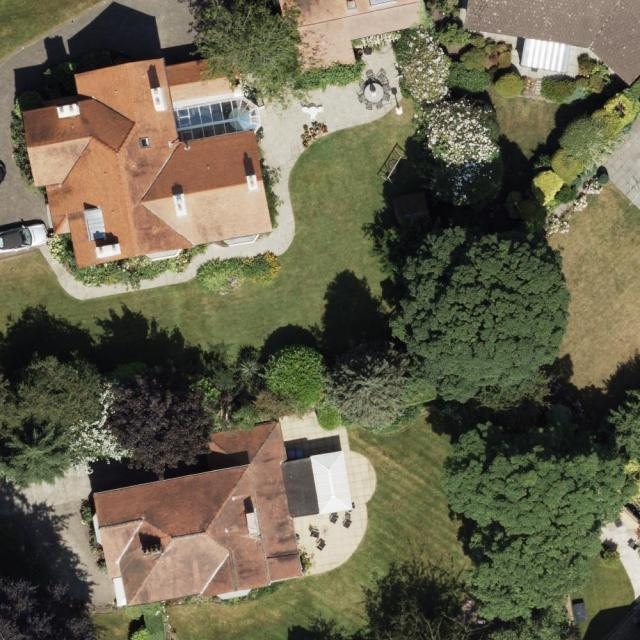roof: (22, 54, 271, 269), (93, 418, 353, 608), (463, 0, 640, 87), (280, 0, 430, 73)
skylight: (173, 97, 260, 143), (368, 1, 402, 9), (138, 135, 152, 150), (342, 0, 357, 13)
